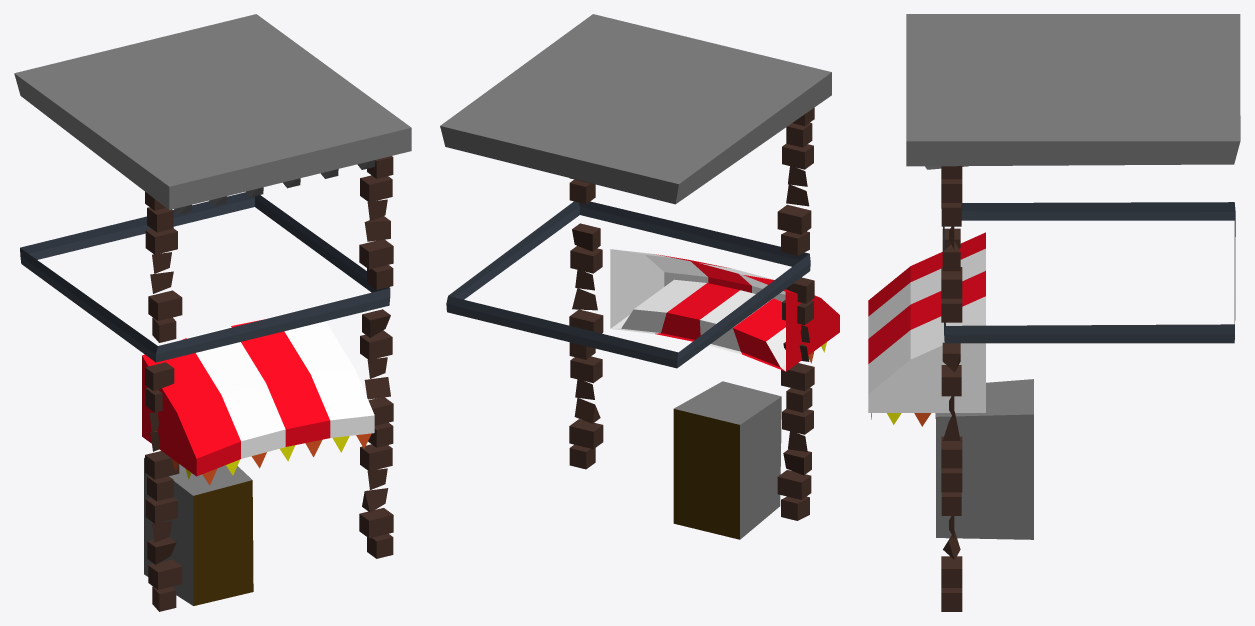
The model's file is PredioGenerico1BrancoLOD1.fbx.
3 renders of one model, left to right at view 1: azimuth 30°, elevation 25°; view 2: azimuth 150°, elevation 25°; view 3: azimuth 270°, elevation 25°, orthographic. The views are drawn at different scales.
Visible parts, largest first — view 1: LojaGenerica1LOD1, ToldoLOD1; view 2: LojaGenerica1LOD1, ToldoLOD1; view 3: LojaGenerica1LOD1, ToldoLOD1.
Boxes of the visible parts, x1,y1,x2,y2 form: LojaGenerica1LOD1: [14, 14, 411, 611]; ToldoLOD1: [142, 319, 374, 476]; LojaGenerica1LOD1: [440, 14, 831, 539]; ToldoLOD1: [610, 249, 839, 371]; LojaGenerica1LOD1: [871, 14, 1240, 611]; ToldoLOD1: [868, 232, 985, 412].
Bounding box in the file's own units: 403 × 699 × 498.
